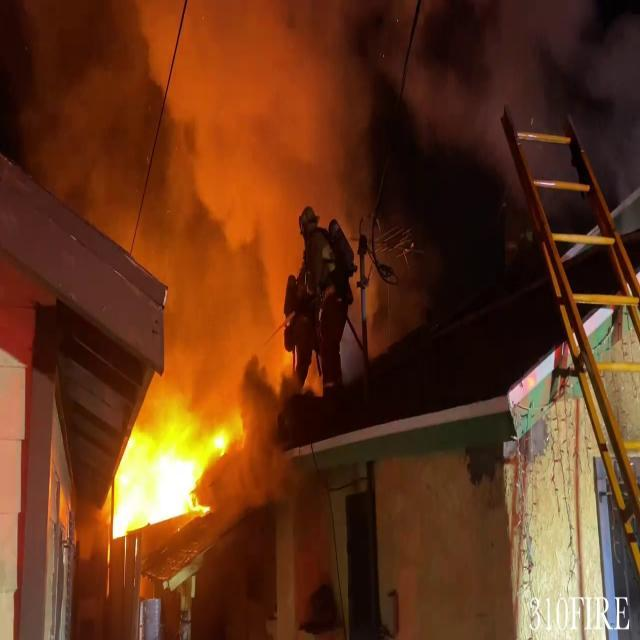Fire: (100, 373, 238, 545)
Smoke: (54, 7, 603, 387)
